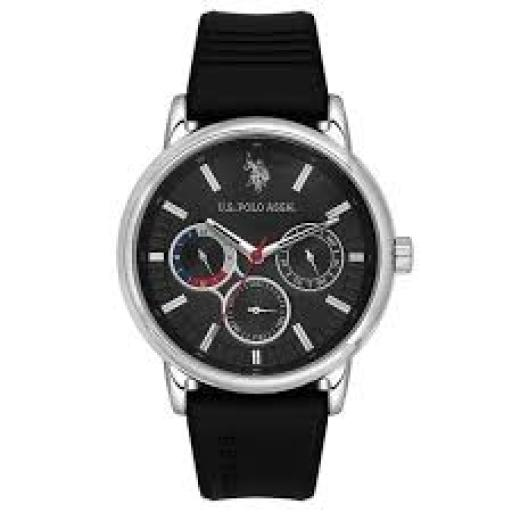KolSaati: (100, 6, 429, 512)
